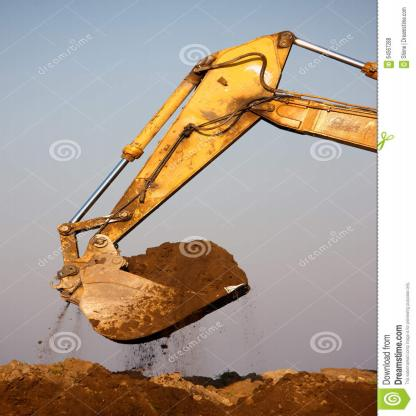excavator: (38, 27, 378, 348)
